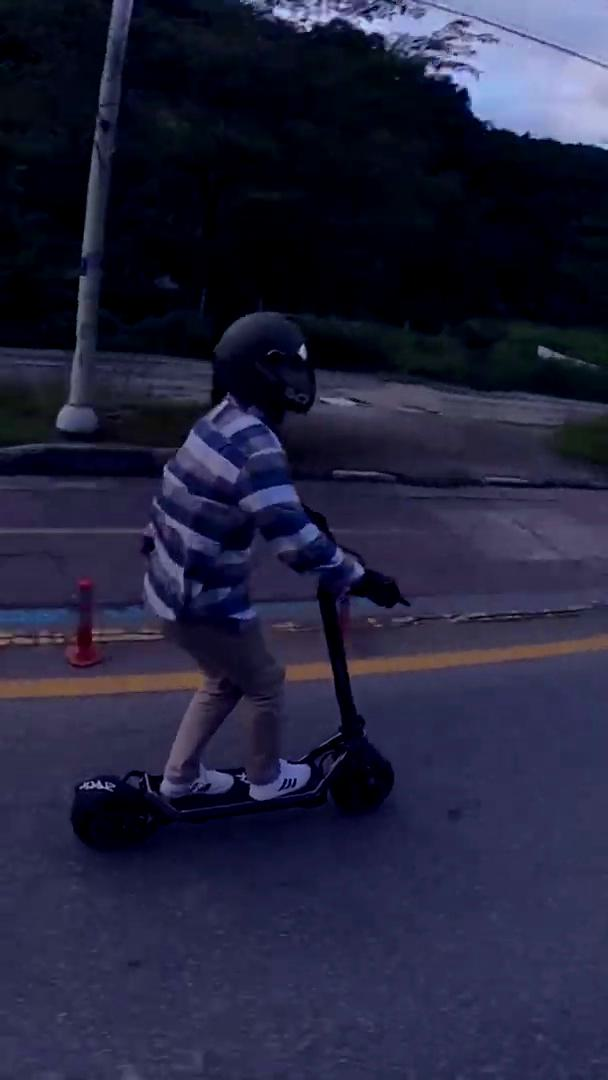helmet: (67, 307, 413, 855)
